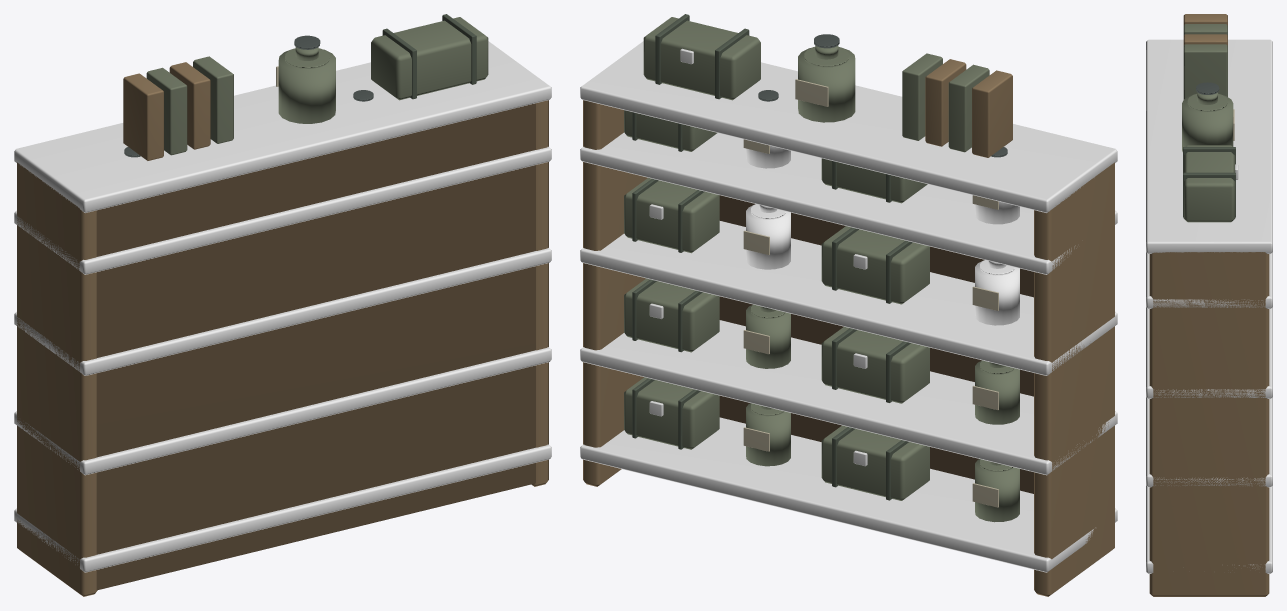
The model's file is SalvageShelf62.fbx.
3 renders of one model, left to right at view 1: azimuth 30°, elevation 25°; view 2: azimuth 150°, elevation 25°; view 3: azimuth 270°, elevation 25°, orthographic. The views are drawn at different scales.
Parts seen in each view (by area): view 1: SalvageShelf62; view 2: SalvageShelf62; view 3: SalvageShelf62.
Part boxes in pixels (x1,y1,x2,y2): SalvageShelf62: (14, 14, 551, 596); SalvageShelf62: (580, 14, 1117, 596); SalvageShelf62: (1146, 14, 1272, 596).
Size of the model in its own units: 262 by 252 by 69.
